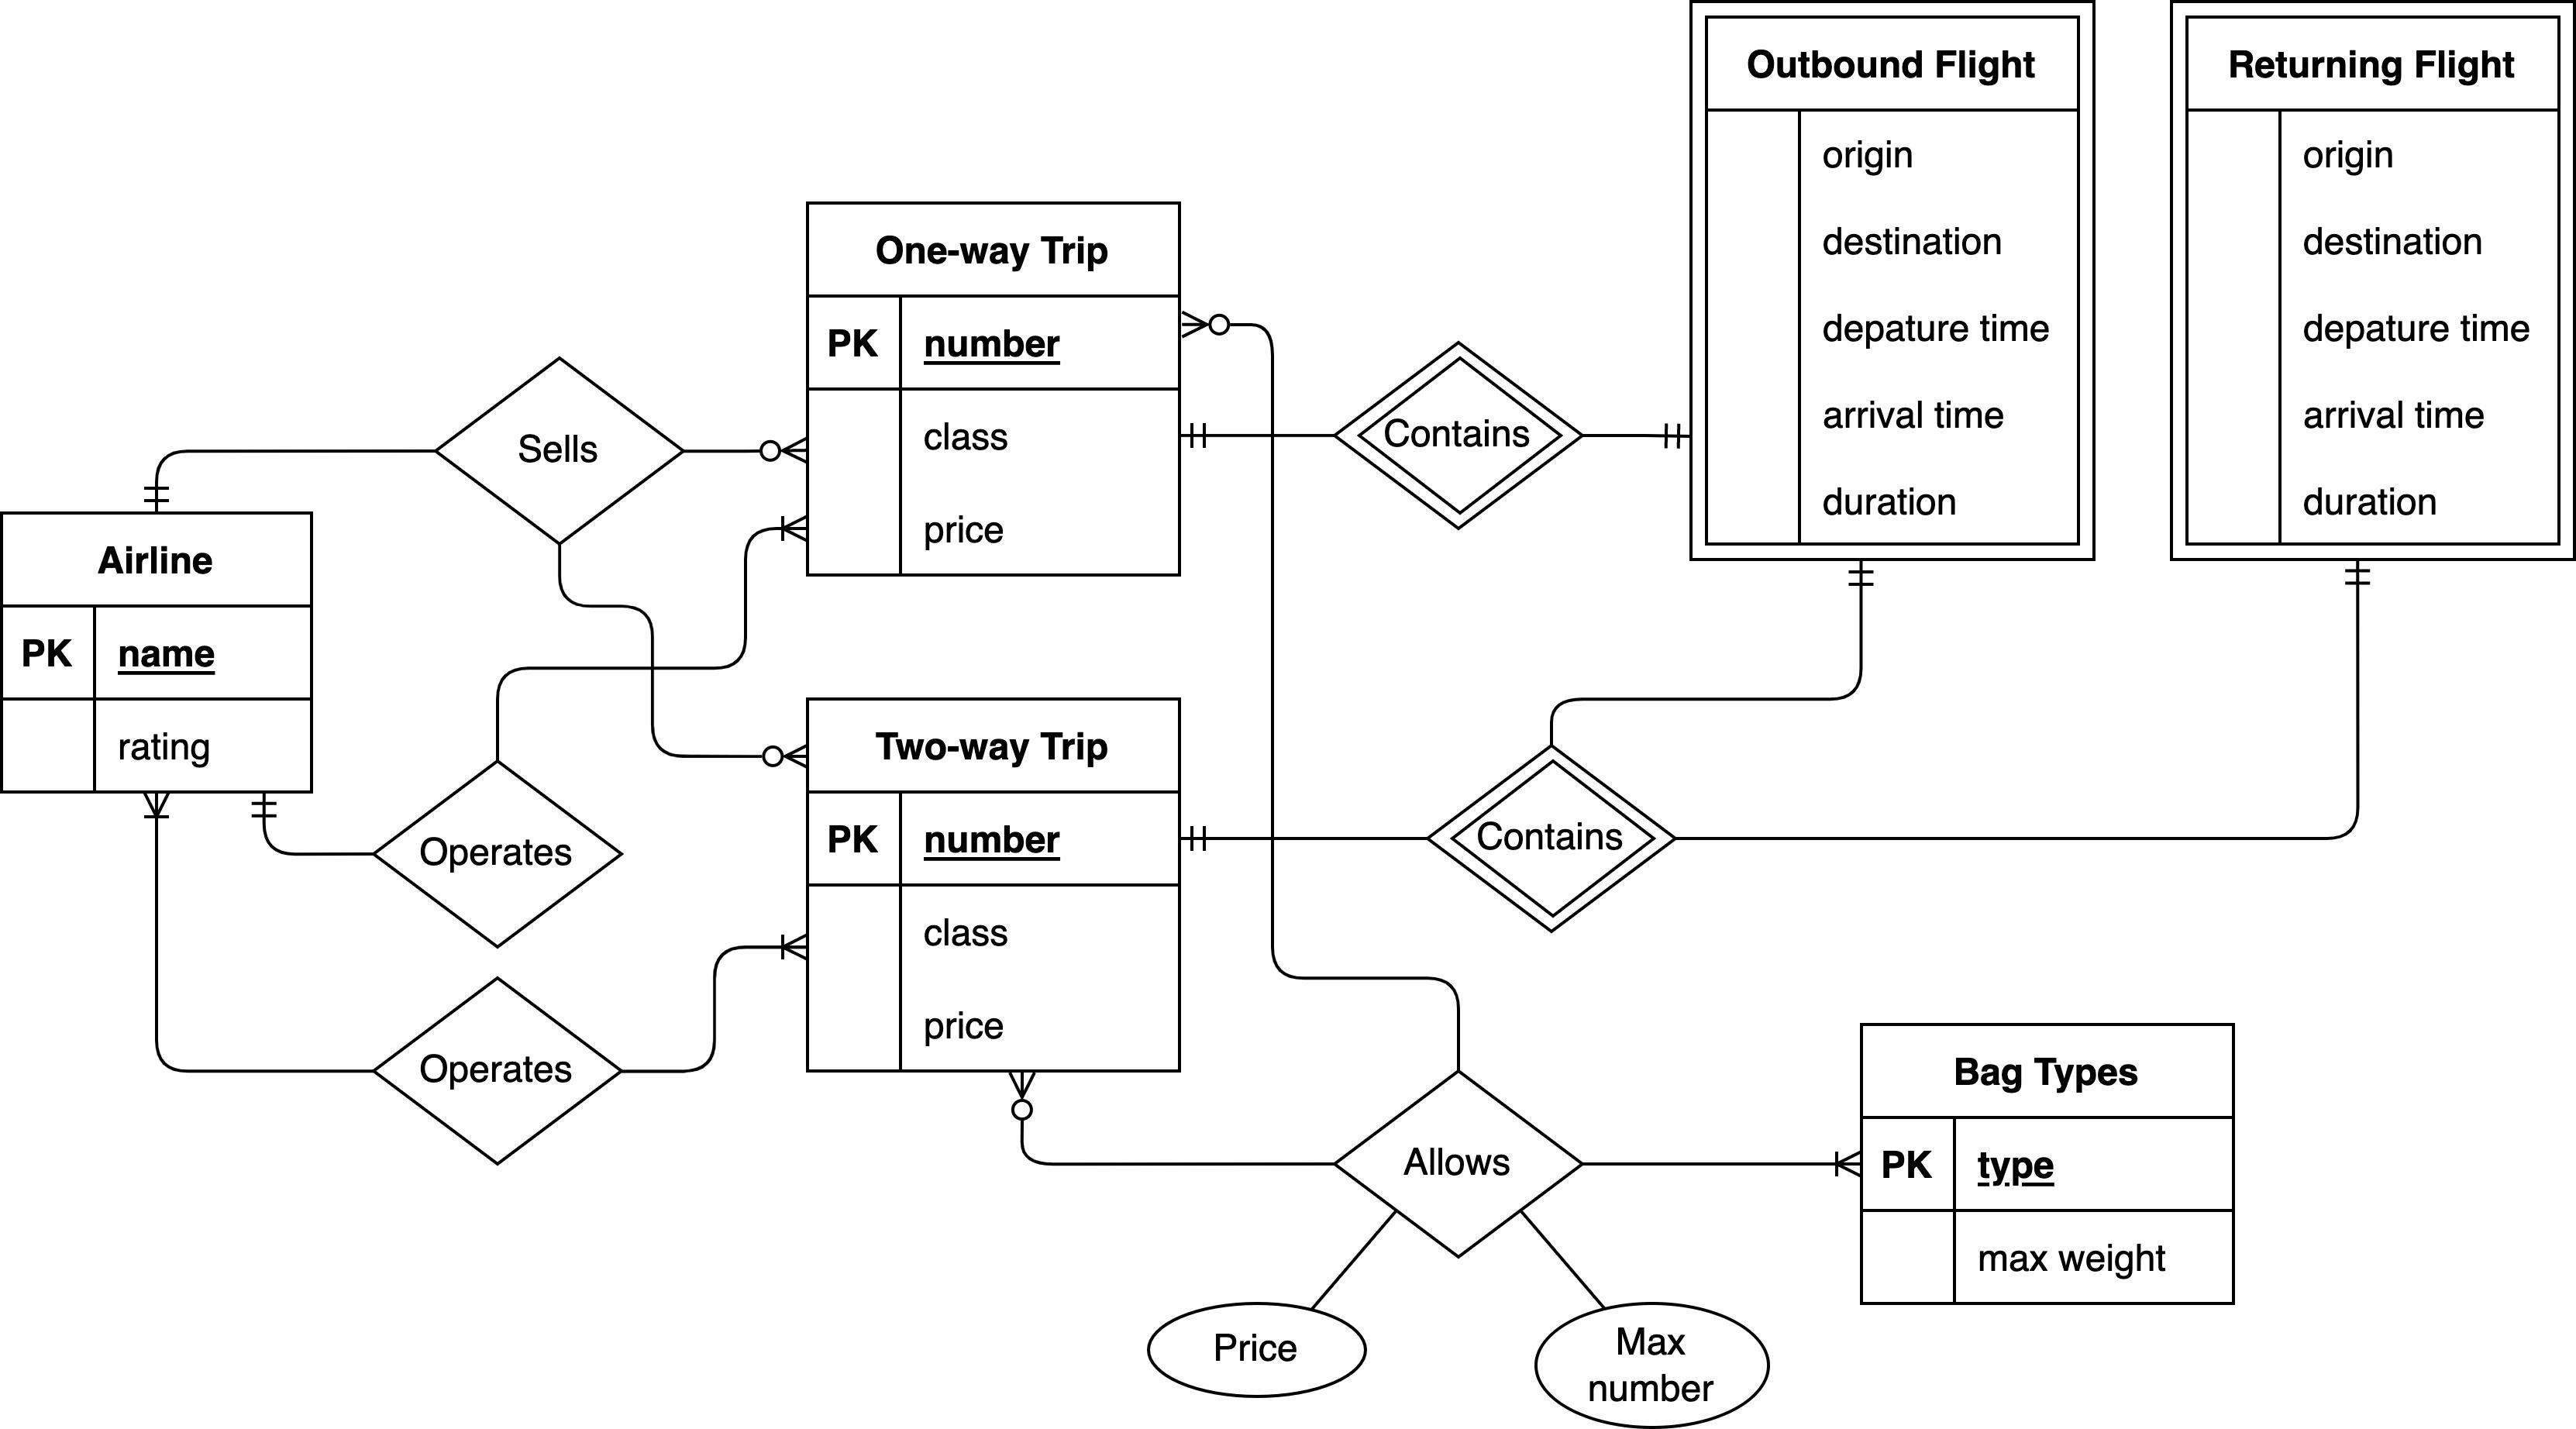attribute: (1529, 1302, 1770, 1429), (1147, 1302, 1365, 1397)
entity: (801, 693, 1189, 1077), (801, 199, 1182, 581), (1856, 1017, 2238, 1309), (0, 512, 315, 799)
relationship: (1336, 1070, 1592, 1253), (375, 977, 618, 1167), (375, 762, 625, 945), (431, 361, 679, 539)
weakentity: (1686, 0, 2099, 563), (2166, 0, 2576, 565)
weakrelationship: (1332, 334, 1575, 531), (1425, 746, 1670, 933)
